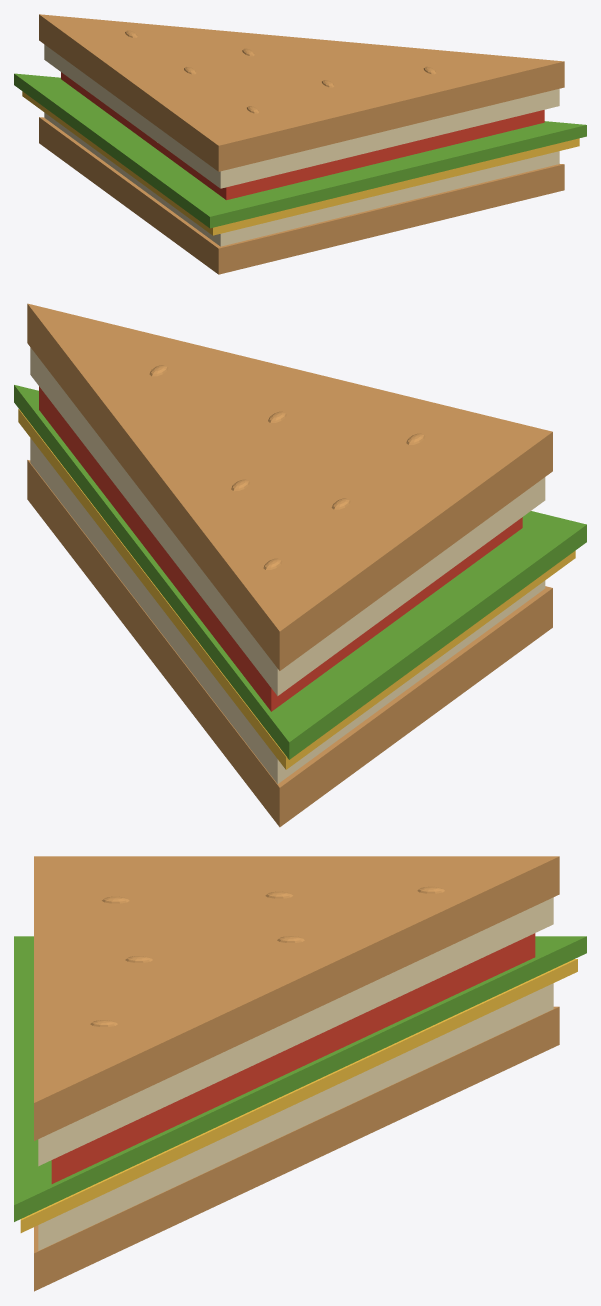
The model's file is sandwich.glb.
3 views of the same model, one above another, from view 1: azimuth 30°, elevation 25°; view 2: azimuth 150°, elevation 25°; view 3: azimuth 270°, elevation 25° (orthographic). The views are drawn at different scales.
Parts seen in each view (by area): view 1: Top golden crust, Lettuce leaf, Bottom crust, Top soft bread, Bottom soft bread, Tomato filling, Cheddar slice; view 2: Top golden crust, Lettuce leaf, Bottom crust, Top soft bread, Bottom soft bread, Tomato filling, Cheddar slice; view 3: Top golden crust, Bottom crust, Lettuce leaf, Top soft bread, Bottom soft bread, Tomato filling, Cheddar slice.
Part boxes in pixels (<box>): Top golden crust: <box>39,14,564,171</box>; Lettuce leaf: <box>14,73,586,228</box>; Bottom crust: <box>39,117,564,274</box>; Top soft bread: <box>44,44,559,188</box>; Bottom soft bread: <box>44,112,559,246</box>; Tomato filling: <box>61,72,544,200</box>; Cheddar slice: <box>22,91,579,235</box>; Top golden crust: <box>27,303,552,670</box>; Lettuce leaf: <box>14,385,586,759</box>; Bottom crust: <box>27,460,552,827</box>; Top soft bread: <box>30,347,545,695</box>; Bottom soft bread: <box>30,438,545,783</box>; Tomato filling: <box>39,386,522,711</box>; Cheddar slice: <box>18,409,575,769</box>; Top golden crust: <box>34,856,559,1140</box>; Bottom crust: <box>34,1006,559,1291</box>; Lettuce leaf: <box>14,936,586,1221</box>; Top soft bread: <box>38,897,553,1166</box>; Bottom soft bread: <box>38,983,553,1250</box>; Tomato filling: <box>51,933,535,1183</box>; Cheddar slice: <box>20,959,577,1232</box>.
Size of the model in its own units: 0.2725 by 0.0905 by 0.2453.
